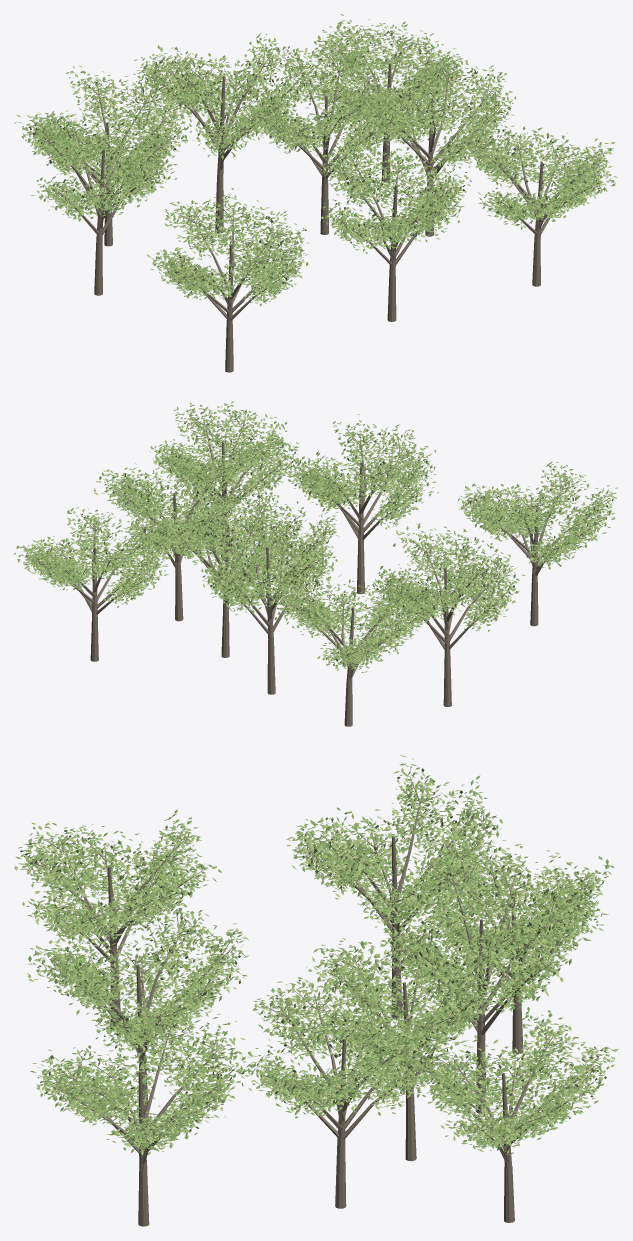
File: 20261103-campus-planting-south-front.glb
The picture shows the model from 3 angles, top to bottom: view 1: azimuth 30°, elevation 25°; view 2: azimuth 150°, elevation 25°; view 3: azimuth 270°, elevation 25°; orthographic projection. The views are drawn at different scales.
Visible parts, largest first — view 1: Tree foliage 1 shade 2, Tree foliage 31 shade 3, Tree foliage 1 shade 3, Tree foliage 1 shade 0, Tree foliage 31 shade 0, Tree foliage 32 shade 2, Tree foliage 0 shade 2, Tree foliage 31 shade 1, Tree foliage 31 shade 2, Tree foliage 32 shade 3, Tree foliage 0 shade 0, Tree foliage 32 shade 1 (+33 smaller); view 2: Tree foliage 1 shade 1, Tree foliage 1 shade 2, Tree foliage 1 shade 3, Tree foliage 1 shade 0, Tree foliage 0 shade 0, Tree foliage 0 shade 1, Tree foliage 0 shade 2, Tree foliage 32 shade 2, Tree foliage 31 shade 3, Tree foliage 31 shade 0, Tree foliage 32 shade 3, Tree foliage 32 shade 0 (+33 smaller); view 3: Tree foliage 1 shade 0, Tree foliage 1 shade 3, Tree foliage 1 shade 1, Tree foliage 33 shade 2, Tree foliage 2 shade 0, Tree foliage 31 shade 3, Tree foliage 21 shade 3, Tree foliage 31 shade 2, Tree foliage 33 shade 0, Tree foliage 0 shade 1, Tree foliage 31 shade 1, Tree foliage 1 shade 2 (+33 smaller).
Part boxes in pixels (box(x1,y1,x2,y2)): Tree foliage 1 shade 2: box(140, 38, 306, 156); Tree foliage 31 shade 3: box(146, 194, 305, 302); Tree foliage 1 shade 3: box(137, 38, 312, 152); Tree foliage 1 shade 0: box(134, 32, 311, 159); Tree foliage 31 shade 0: box(151, 188, 308, 302); Tree foliage 32 shade 2: box(321, 141, 466, 253); Tree foliage 0 shade 2: box(17, 111, 177, 219); Tree foliage 31 shade 1: box(153, 195, 305, 306); Tree foliage 31 shade 2: box(150, 195, 306, 303); Tree foliage 32 shade 3: box(321, 143, 468, 248); Tree foliage 0 shade 0: box(17, 109, 174, 221); Tree foliage 32 shade 1: box(323, 141, 470, 250); Tree foliage 1 shade 1: box(193, 510, 339, 611); Tree foliage 1 shade 2: box(199, 508, 341, 615); Tree foliage 1 shade 3: box(198, 506, 335, 611); Tree foliage 1 shade 0: box(200, 508, 337, 614); Tree foliage 0 shade 0: box(375, 531, 519, 631); Tree foliage 0 shade 1: box(373, 533, 515, 629); Tree foliage 0 shade 2: box(372, 524, 525, 632); Tree foliage 32 shade 2: box(286, 421, 436, 525); Tree foliage 31 shade 3: box(463, 465, 618, 563); Tree foliage 31 shade 0: box(458, 461, 616, 569); Tree foliage 32 shade 3: box(283, 414, 435, 528); Tree foliage 32 shade 0: box(284, 422, 430, 525); Tree foliage 1 shade 0: box(384, 846, 588, 1010); Tree foliage 1 shade 3: box(380, 851, 580, 1008); Tree foliage 1 shade 1: box(385, 855, 584, 1012); Tree foliage 33 shade 2: box(30, 1005, 250, 1151); Tree foliage 2 shade 0: box(246, 977, 438, 1115); Tree foliage 31 shade 3: box(18, 821, 207, 943); Tree foliage 21 shade 3: box(393, 1017, 615, 1149); Tree foliage 31 shade 2: box(15, 809, 213, 950); Tree foliage 33 shade 0: box(36, 1011, 252, 1148); Tree foliage 0 shade 1: box(286, 768, 501, 926); Tree foliage 31 shade 1: box(14, 824, 201, 948); Tree foliage 1 shade 2: box(380, 850, 586, 1011).
Bounding box in the file's own units: 24.59 × 9.18 × 21.52.
